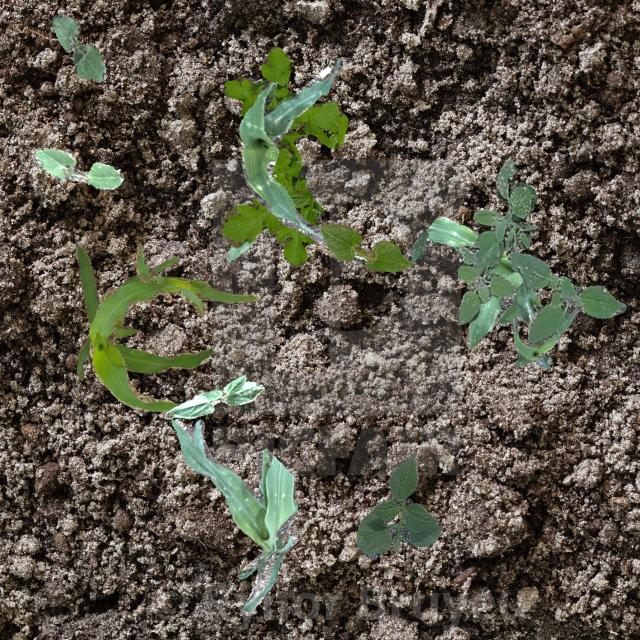crop: (88, 244, 256, 411), (237, 56, 365, 260), (170, 418, 296, 614), (402, 215, 550, 364), (74, 242, 212, 378), (356, 454, 440, 556), (318, 222, 409, 270), (165, 373, 262, 418), (511, 306, 578, 368), (50, 13, 106, 80), (32, 148, 122, 188), (226, 239, 252, 261)
weed: (453, 156, 624, 344), (220, 44, 346, 266)
